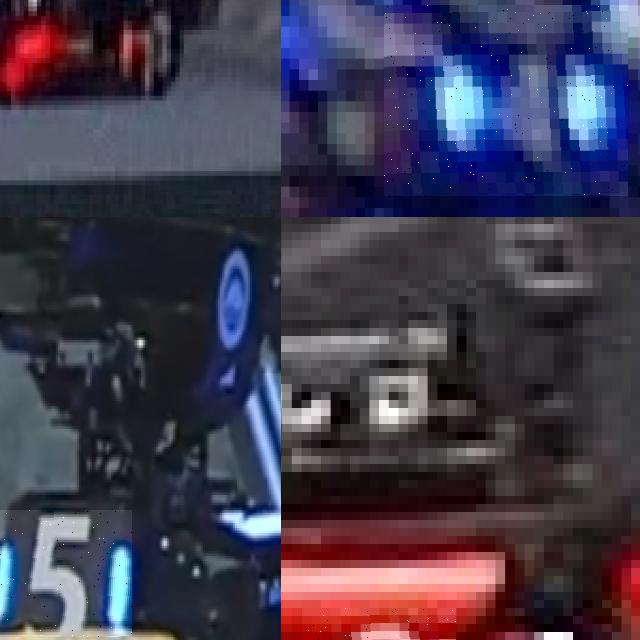B4: (384, 6, 628, 198)
B5: (0, 510, 131, 637)
R2: (301, 608, 456, 640)
